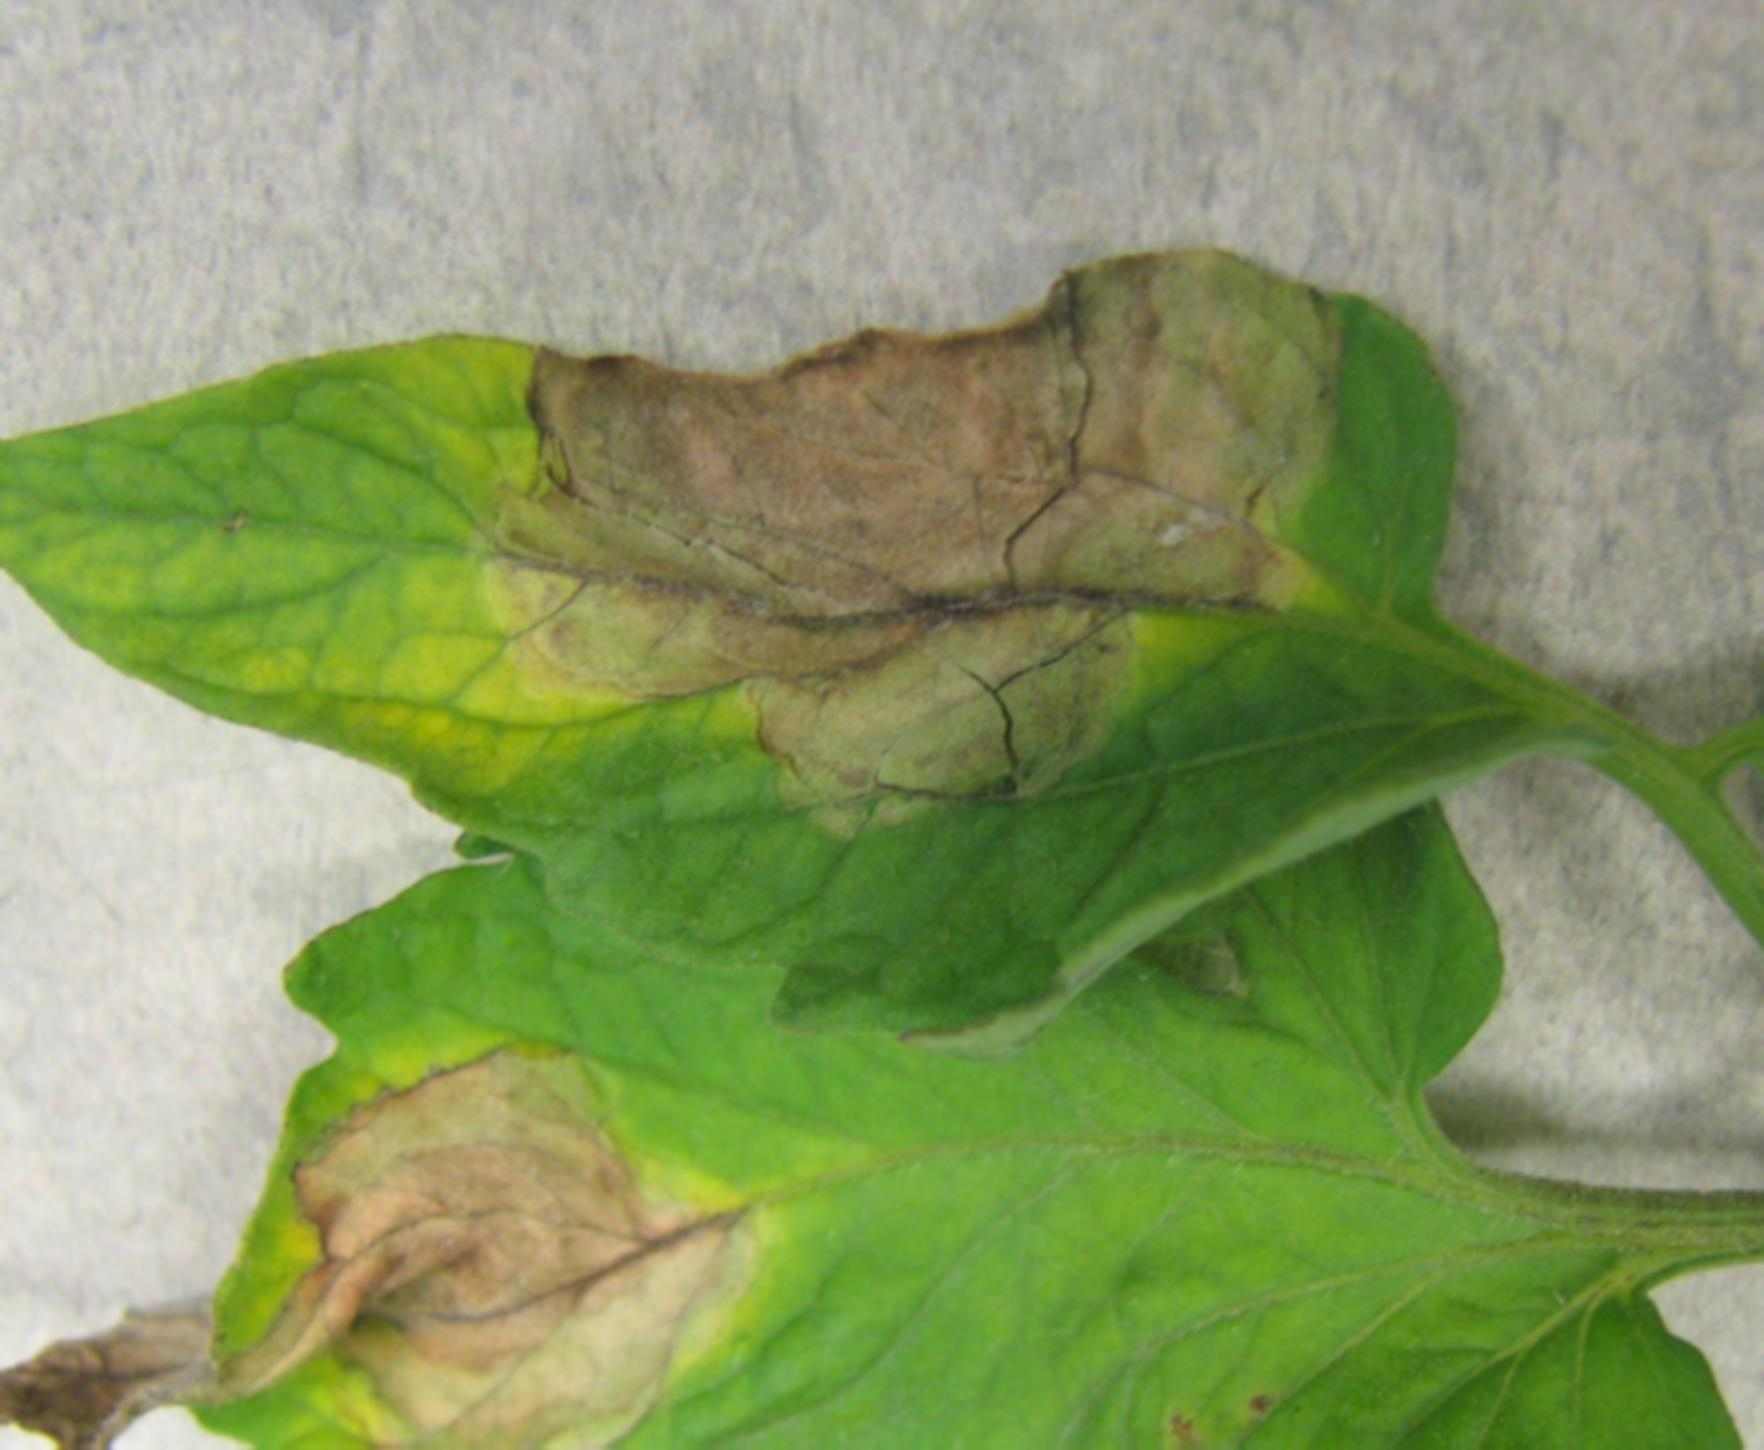Tomato leaf late blight: (0, 197, 1571, 1037), (0, 918, 1764, 1450)
